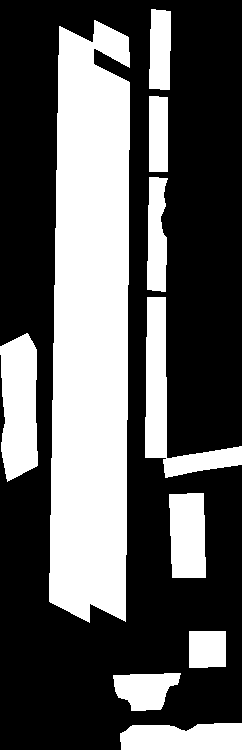parkingspot: (49, 26, 93, 622), (87, 63, 129, 621), (0, 333, 37, 481), (145, 297, 166, 457), (120, 723, 242, 750), (169, 493, 205, 577), (113, 673, 180, 710), (163, 446, 242, 477), (147, 177, 167, 291), (93, 20, 129, 67), (149, 9, 170, 89), (149, 96, 167, 171), (189, 631, 225, 667)
